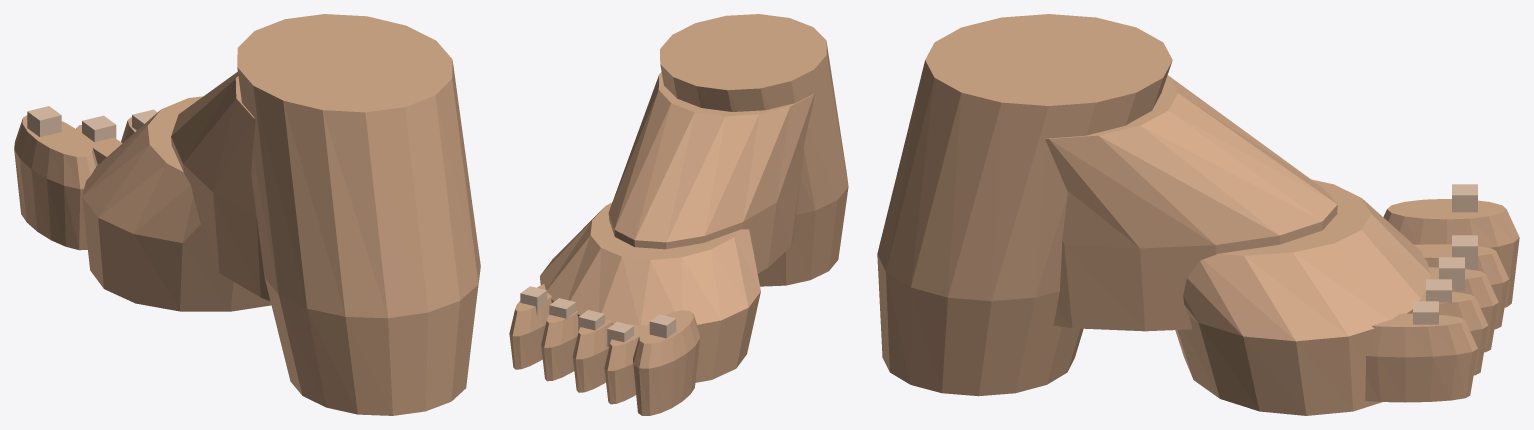
File: CHAR-071.glb
3 renders of one model, left to right at view 1: azimuth 30°, elevation 25°; view 2: azimuth 150°, elevation 25°; view 3: azimuth 270°, elevation 25°, orthographic. The views are drawn at different scales.
Visible parts, largest first — view 1: 精细体素裸足母版; view 2: 精细体素裸足母版; view 3: 精细体素裸足母版.
Boxes of the visible parts, x1,y1,x2,y2 form: 精细体素裸足母版: (14, 14, 480, 415); 精细体素裸足母版: (509, 14, 848, 415); 精细体素裸足母版: (877, 14, 1519, 415).
Size of the model in its own units: 0.116 by 0.1263 by 0.247.
Materials: 2 (2 with a texture image).
